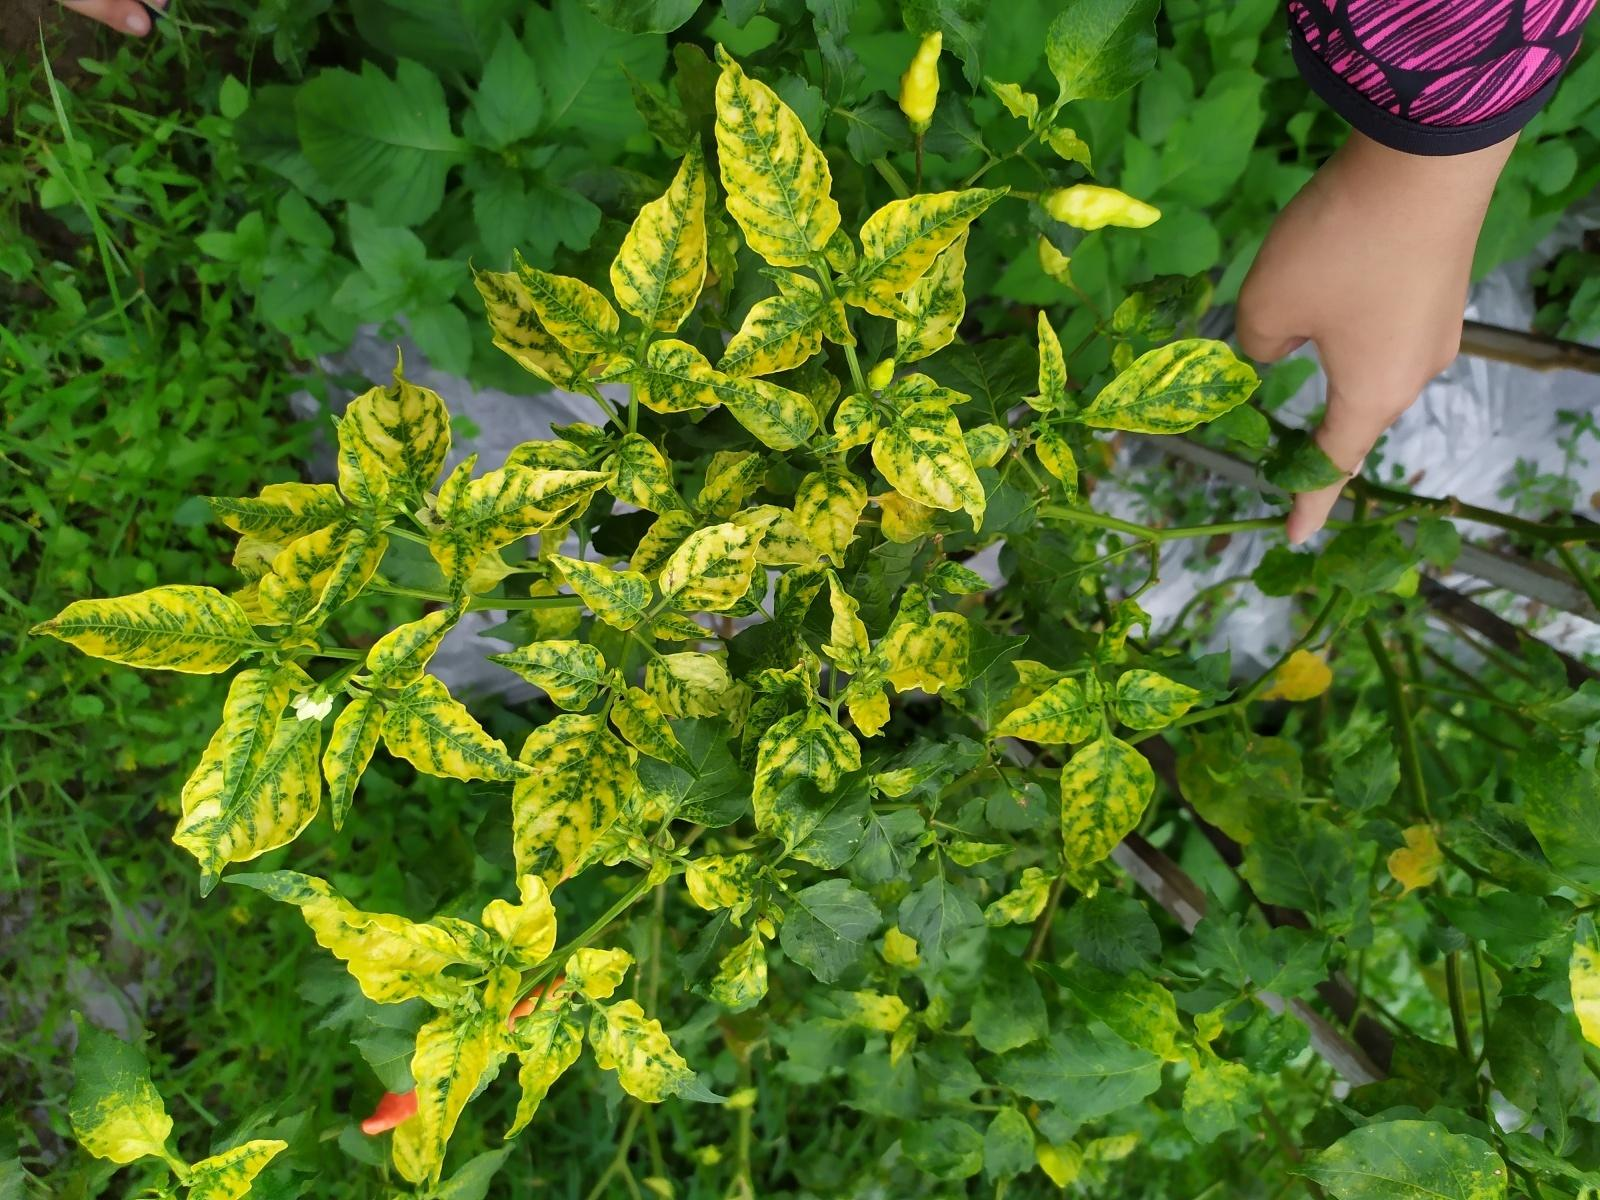cabai_normal: (1042, 183, 1162, 231), (897, 32, 944, 127)
